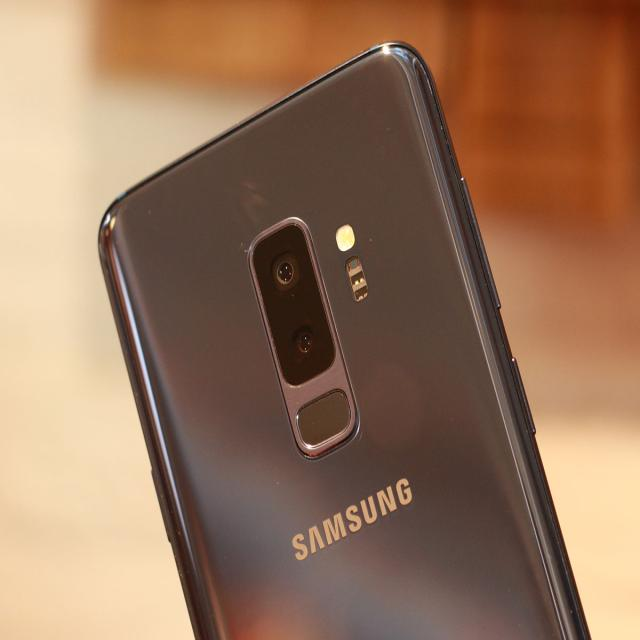mobile phone: (97, 38, 592, 638)
